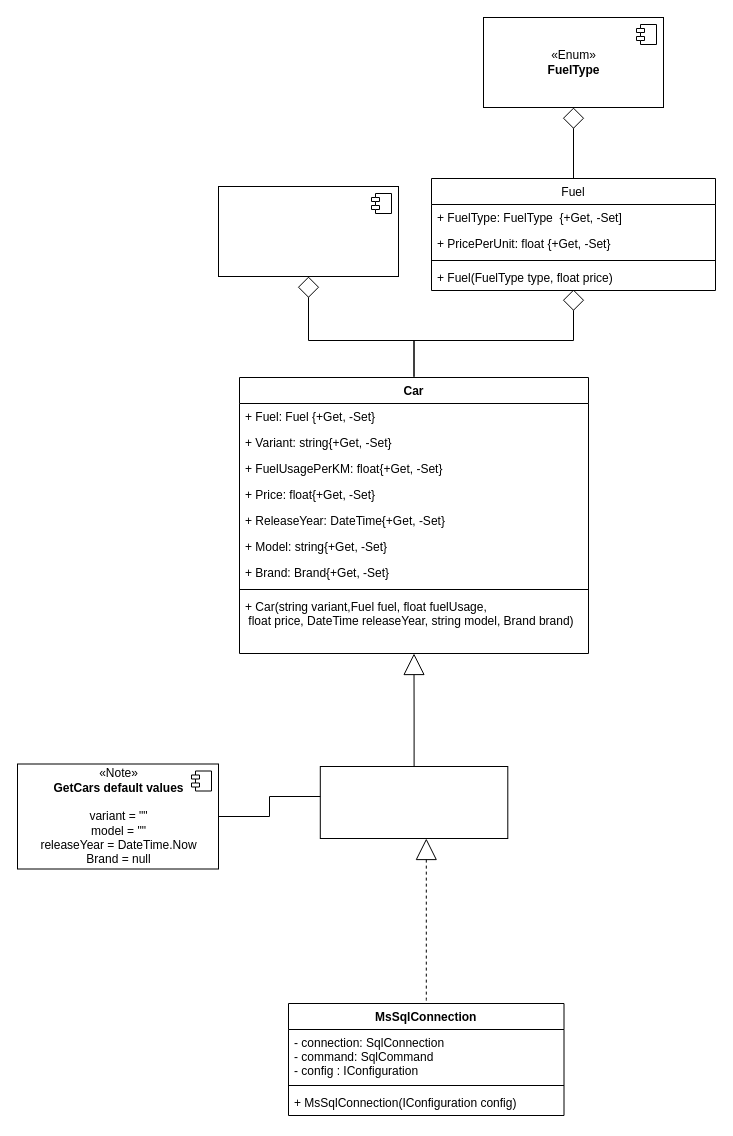
The diagram is 733 pixels wide and 1136 high, and some of its shapes have lost their labels. The centre of each missing label's shape, as x and y in pixels:
"<<Interface>> IFetchCarFromDb + GetAllCars( ): List<Car>" goes at point (413, 802).
"«Enum» Brand" goes at point (308, 231).
